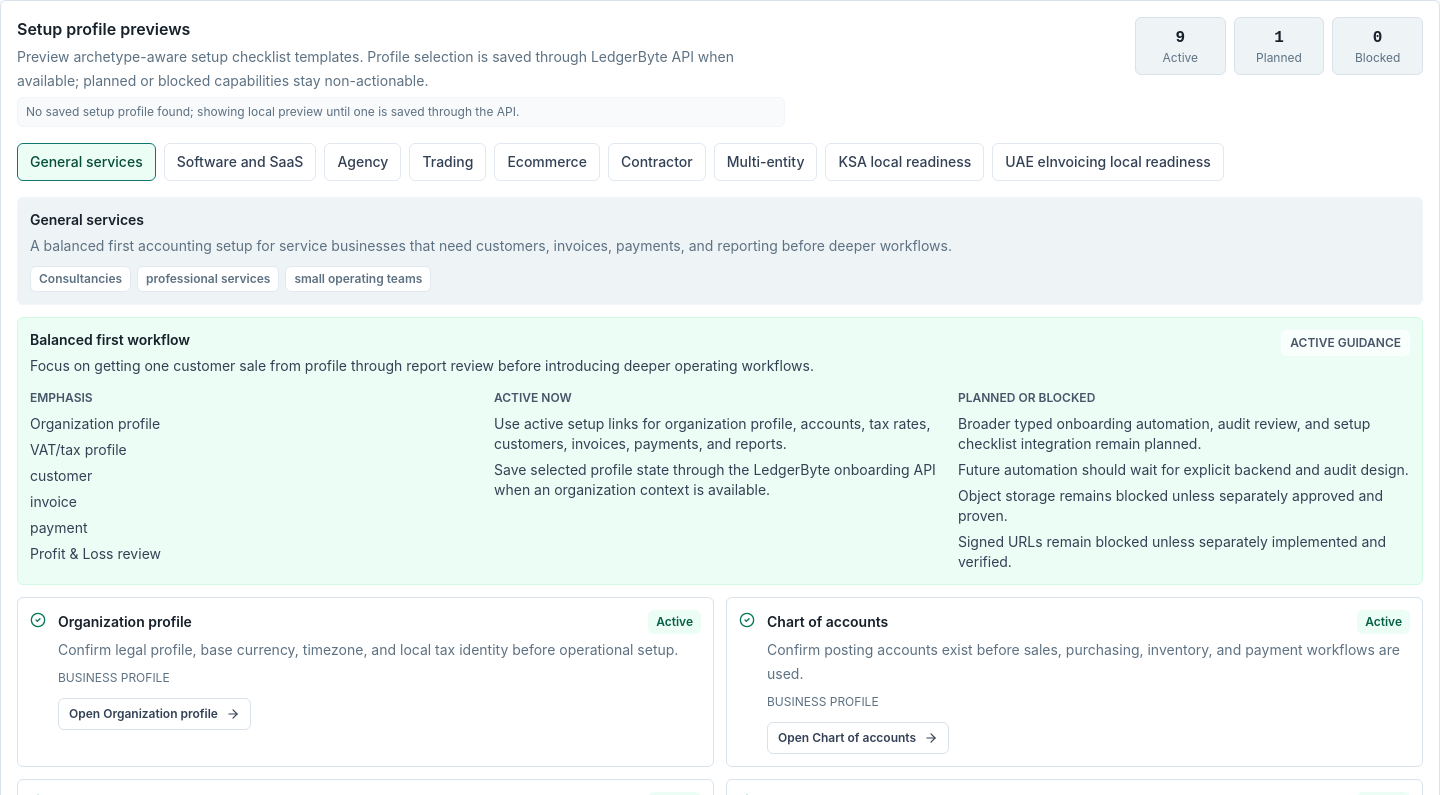
Test: typed onboarding checklist preview › keeps failed API responses non-destructive and free of browser durable persistence
This screenshot has width=1440, height=795.
Click the button "Agency" at (363, 162), box x1=324 y1=143 x2=401 y2=181
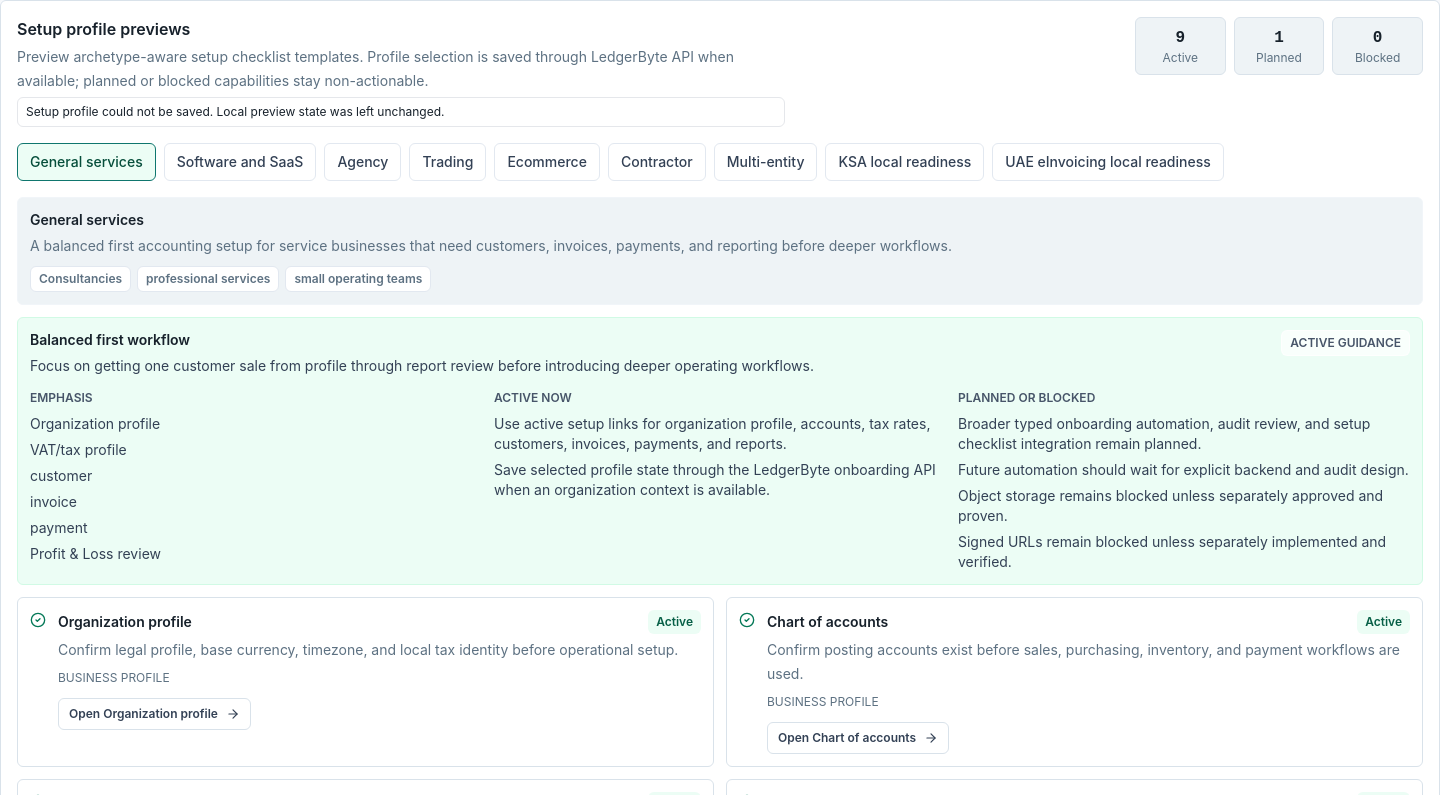
Now the text "Setup profile could not be saved. Local preview state was left unchanged." is shown, box x1=17 y1=97 x2=785 y2=127
